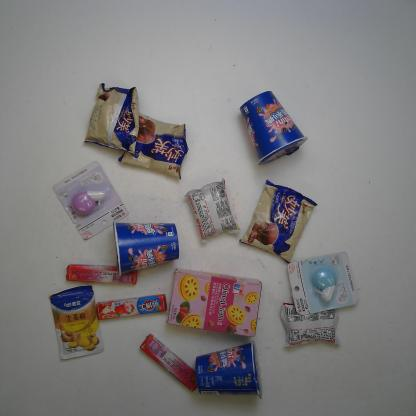Candy: (139, 332, 199, 392), (96, 293, 167, 320), (65, 264, 138, 285)
Dessert: (236, 178, 318, 265), (166, 266, 263, 337), (240, 89, 309, 168), (117, 111, 189, 179), (194, 340, 264, 402), (82, 82, 140, 156), (112, 220, 181, 278), (183, 176, 241, 245), (281, 297, 342, 349)
Seasoner: (48, 283, 105, 361)
Stationery: (53, 160, 130, 242), (286, 250, 358, 316)
